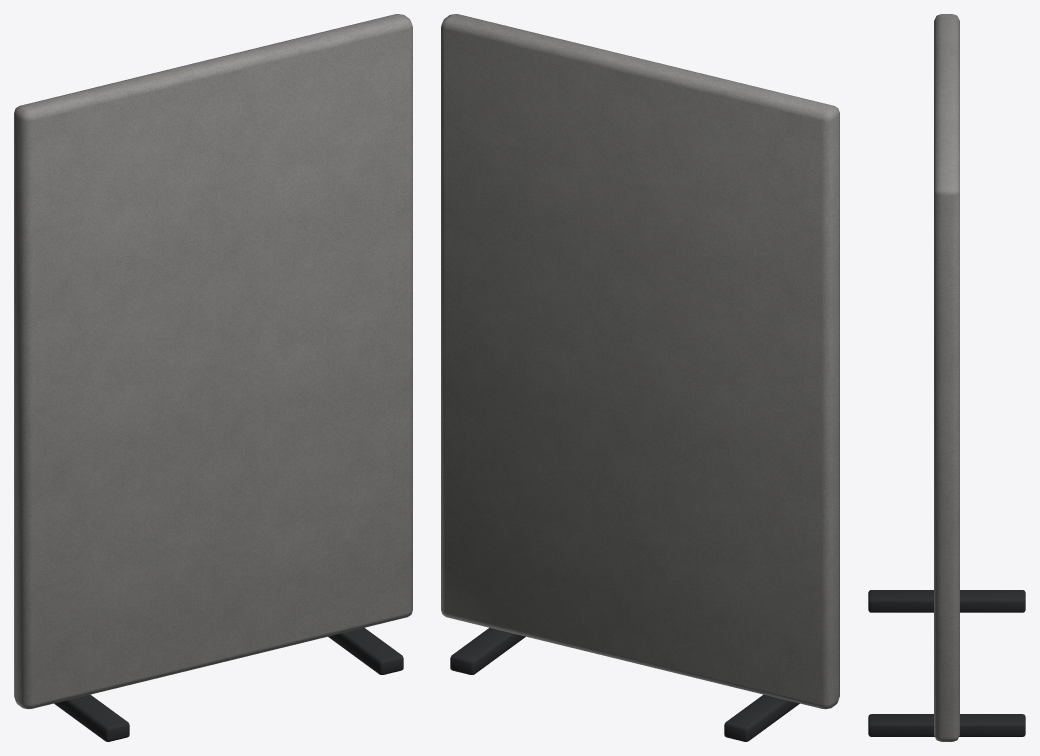
File: partition.fabric-divider-low.glb
3 views of the same model, side by side, from view 1: azimuth 30°, elevation 25°; view 2: azimuth 150°, elevation 25°; view 3: azimuth 270°, elevation 25° (orthographic). The views are drawn at different scales.
Parts seen in each view (by area): view 1: partition.fabric-divider-low.001; view 2: partition.fabric-divider-low.001; view 3: partition.fabric-divider-low.001.
Part boxes in pixels (x1,y1,x2,y2): partition.fabric-divider-low.001: (14,14,412,741); partition.fabric-divider-low.001: (441,14,839,741); partition.fabric-divider-low.001: (868,14,1025,741).
Bounding box in the file's own units: 0.8 × 1.2 × 0.3.
Materials: 2 (1 with a texture image).
